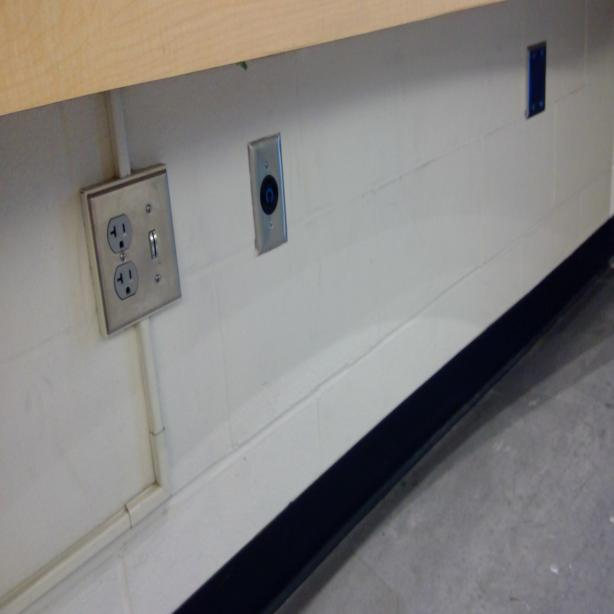typeb: (106, 216, 131, 251), (114, 266, 136, 296)
